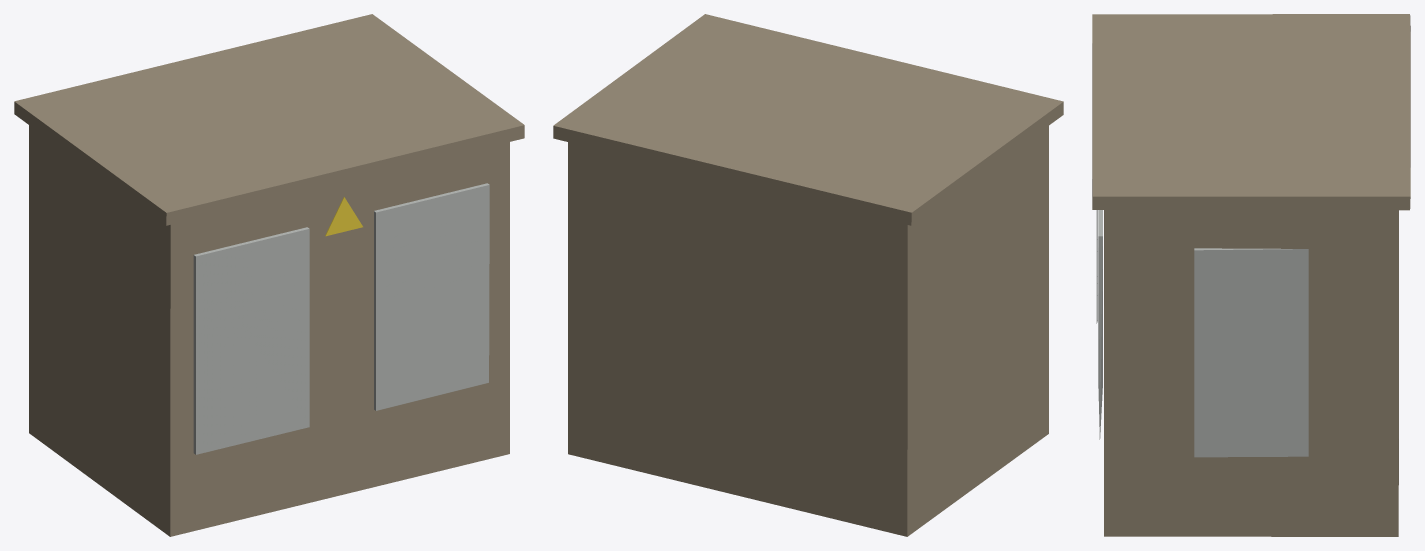
File: transformer-station-lod1.glb
3 renders of one model, left to right at view 1: azimuth 30°, elevation 25°; view 2: azimuth 150°, elevation 25°; view 3: azimuth 270°, elevation 25°, orthographic. The views are drawn at different scales.
Visible parts, largest first — view 1: transformer-station-extra0.001; view 2: transformer-station-extra0.001; view 3: transformer-station-extra0.001.
Part boxes in pixels (<box>): transformer-station-extra0.001: <box>14,14,524,536</box>; transformer-station-extra0.001: <box>553,14,1063,536</box>; transformer-station-extra0.001: <box>1092,14,1410,536</box>.
Bounding box in the file's own units: 3.78 × 3.33 × 2.78.
